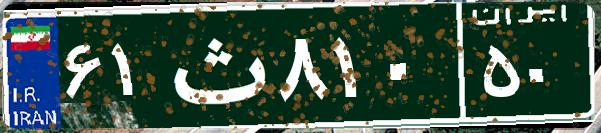0: (385, 28, 445, 110), (525, 38, 570, 115)
1: (330, 28, 385, 110), (110, 28, 158, 105)
5: (475, 38, 525, 113)
6: (57, 26, 110, 107)
8: (273, 28, 330, 110)
ث: (158, 15, 273, 115)
